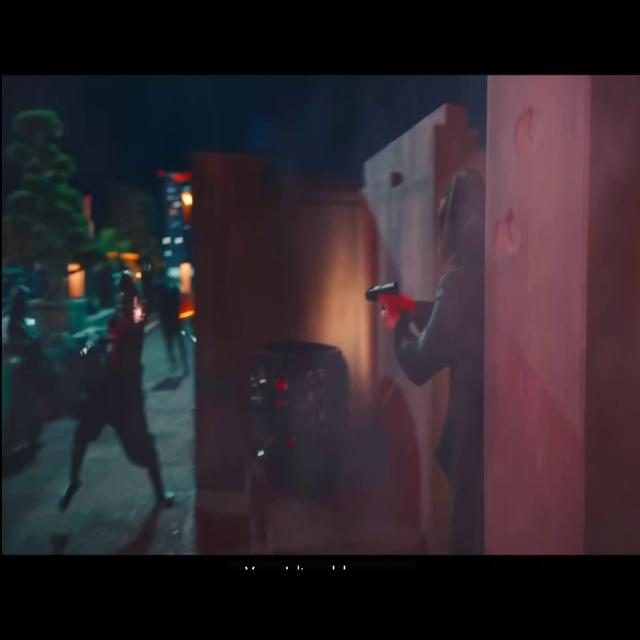weapons: (354, 260, 404, 350)
